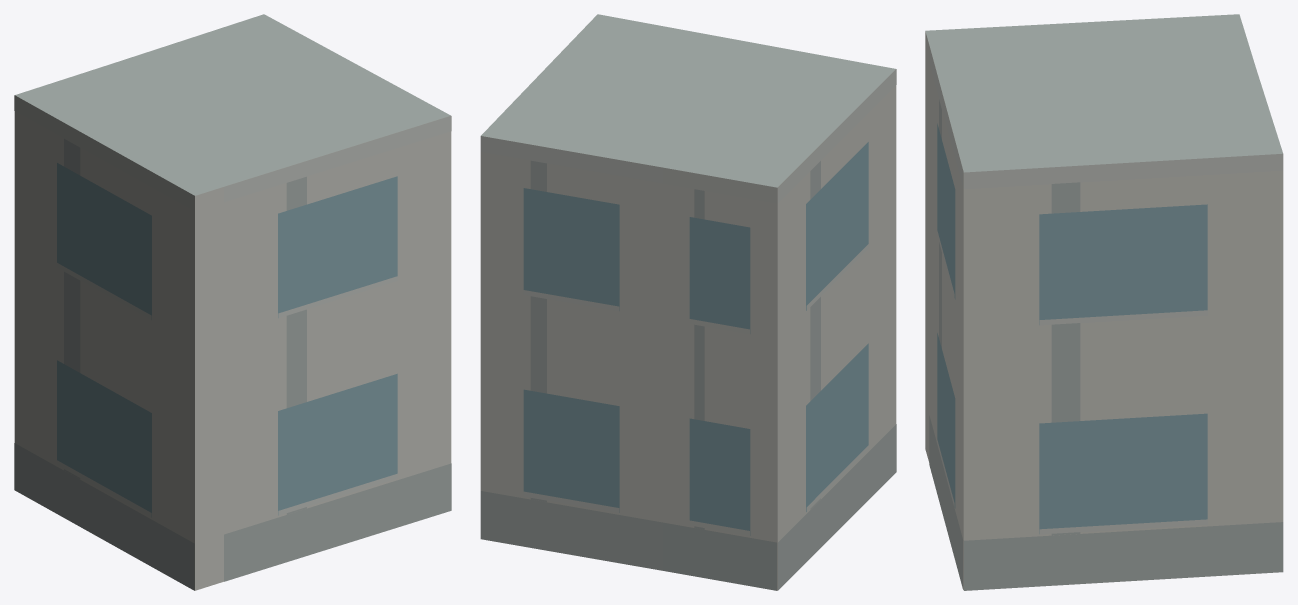
File: survey-upis-33039070.glb
3 views of the same model, side by side, from view 1: azimuth 30°, elevation 25°; view 2: azimuth 150°, elevation 25°; view 3: azimuth 270°, elevation 25° (orthographic). The views are drawn at different scales.
Visible parts, largest first — view 1: survey-upis-33039070.tmp; view 2: survey-upis-33039070.tmp; view 3: survey-upis-33039070.tmp.
Part boxes in pixels (x1,y1,x2,y2): survey-upis-33039070.tmp: (14,14,451,590); survey-upis-33039070.tmp: (480,14,896,590); survey-upis-33039070.tmp: (925,14,1283,590).
Size of the model in its own units: 4.96 by 6.1 by 4.74.
